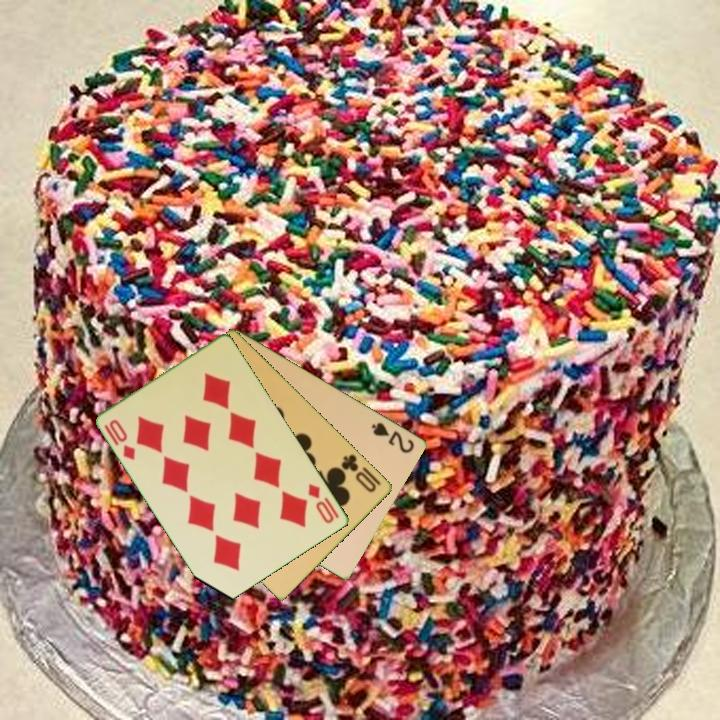10c: (338, 450, 379, 495)
10d: (101, 416, 139, 463), (305, 480, 342, 527)
2s: (368, 418, 418, 456)
